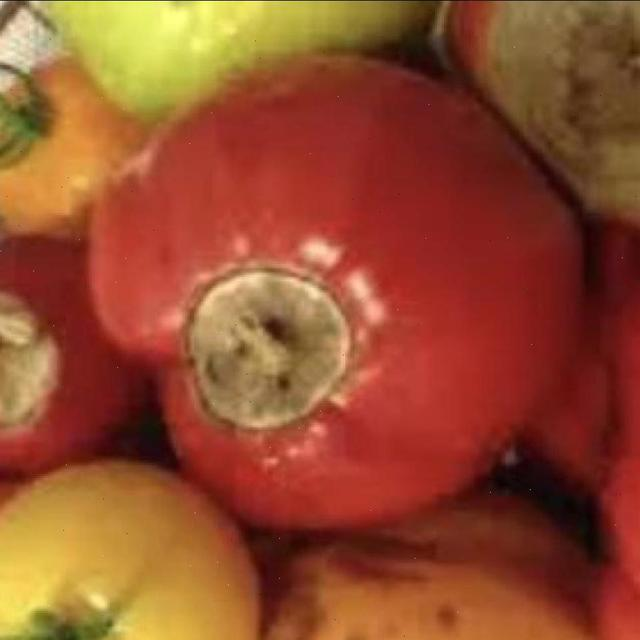Blossom End Rot Fruit: (19, 67, 376, 236)
